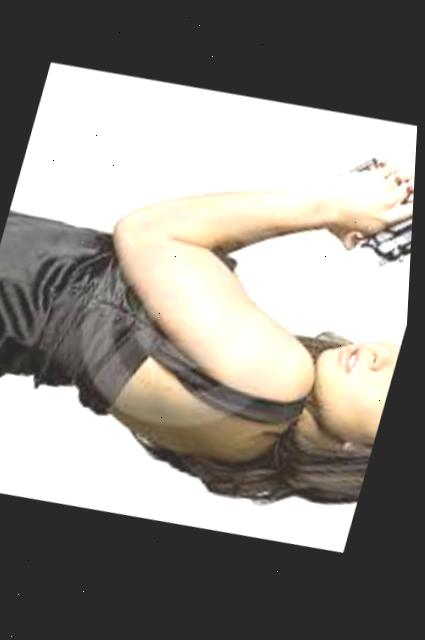pistol: (328, 144, 418, 299)
